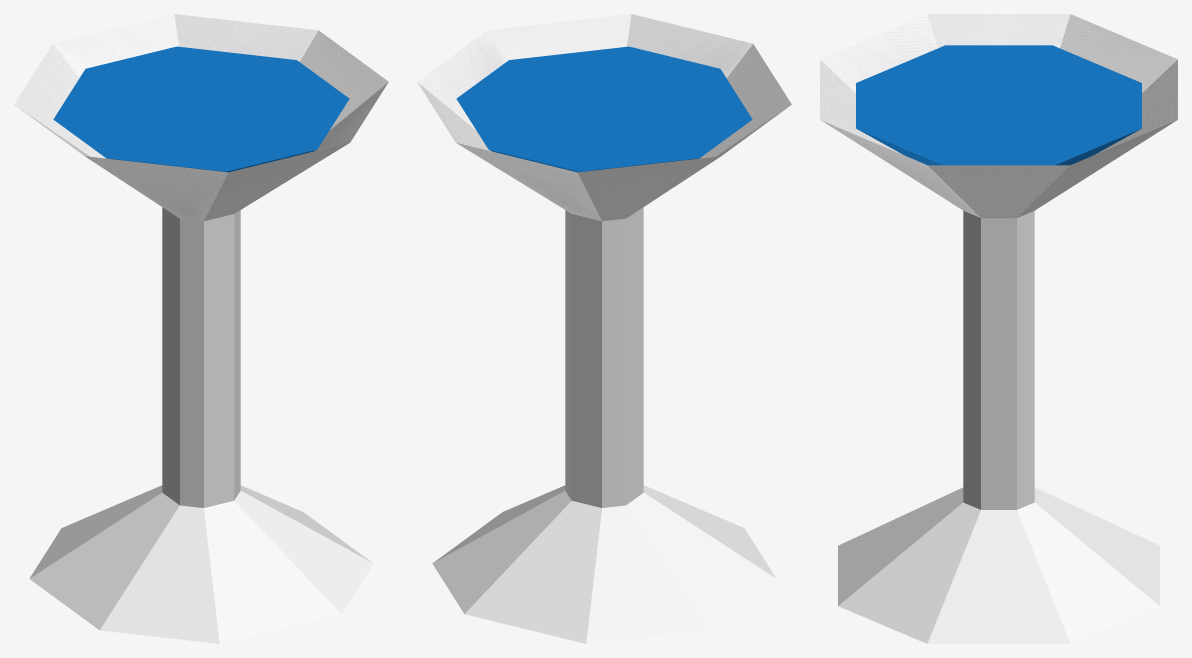
File: inv_poison_chalice.obj
3 renders of one model, left to right at view 1: azimuth 30°, elevation 25°; view 2: azimuth 150°, elevation 25°; view 3: azimuth 270°, elevation 25°, orthographic.
Bounding box in the file's own units: 0.1562 × 0.2344 × 0.1562.
